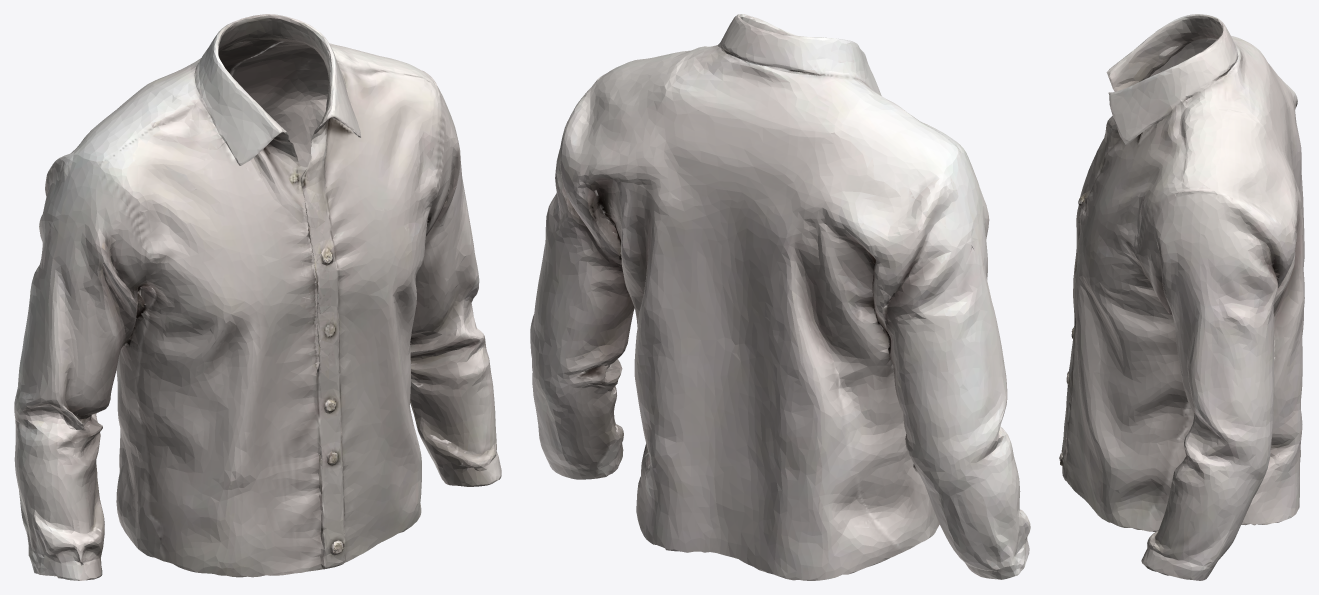
Rendered from shirt.glb.
3 views of the same model, side by side, from view 1: azimuth 30°, elevation 25°; view 2: azimuth 150°, elevation 25°; view 3: azimuth 270°, elevation 25° (orthographic). The views are drawn at different scales.
Parts seen in each view (by area): view 1: world; view 2: world; view 3: world.
Part boxes in pixels (x1,y1,x2,y2): world: [14, 14, 501, 580]; world: [530, 14, 1030, 580]; world: [1059, 14, 1304, 580].
Bounding box in the file's own units: 1.96 × 1.99 × 0.9773.
1 material, 1 textured.
